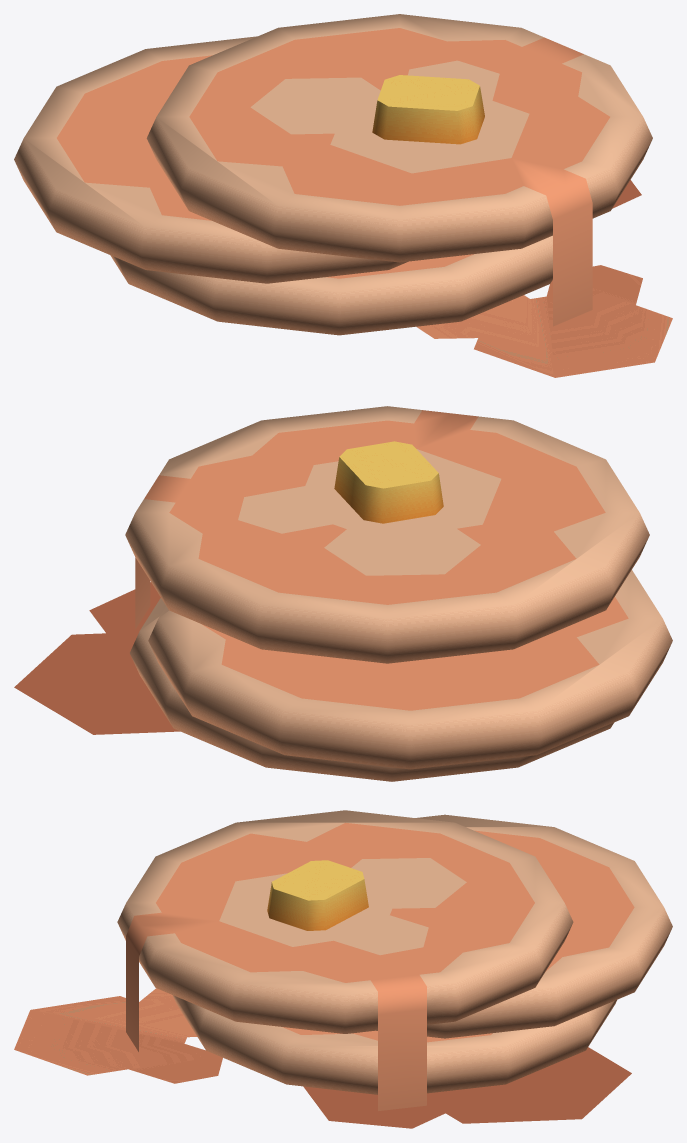
File: pancakes.glb
The picture shows the model from 3 angles, top to bottom: view 1: azimuth 30°, elevation 25°; view 2: azimuth 150°, elevation 25°; view 3: azimuth 270°, elevation 25°; orthographic projection. The views are drawn at different scales.
Visible parts, largest first — view 1: pancake (×3), pancakes, butter; view 2: pancake (×3), pancakes, butter; view 3: pancake (×3), pancakes, butter.
Boxes of the visible parts, x1=… form: pancake (×3): x1=14, y1=14, x2=652, y2=335; pancakes: x1=416, y1=180, x2=672, y2=377; butter: x1=372, y1=75, x2=484, y2=144; pancake (×3): x1=125, y1=406, x2=672, y2=781; pancakes: x1=14, y1=582, x2=180, y2=734; butter: x1=334, y1=441, x2=443, y2=523; pancake (×3): x1=117, y1=810, x2=672, y2=1110; pancakes: x1=14, y1=988, x2=631, y2=1128; butter: x1=267, y1=860, x2=368, y2=930.
Bounding box in the file's own units: 0.4355 × 0.1216 × 0.5039.
Materials: 1 (1 with a texture image).
